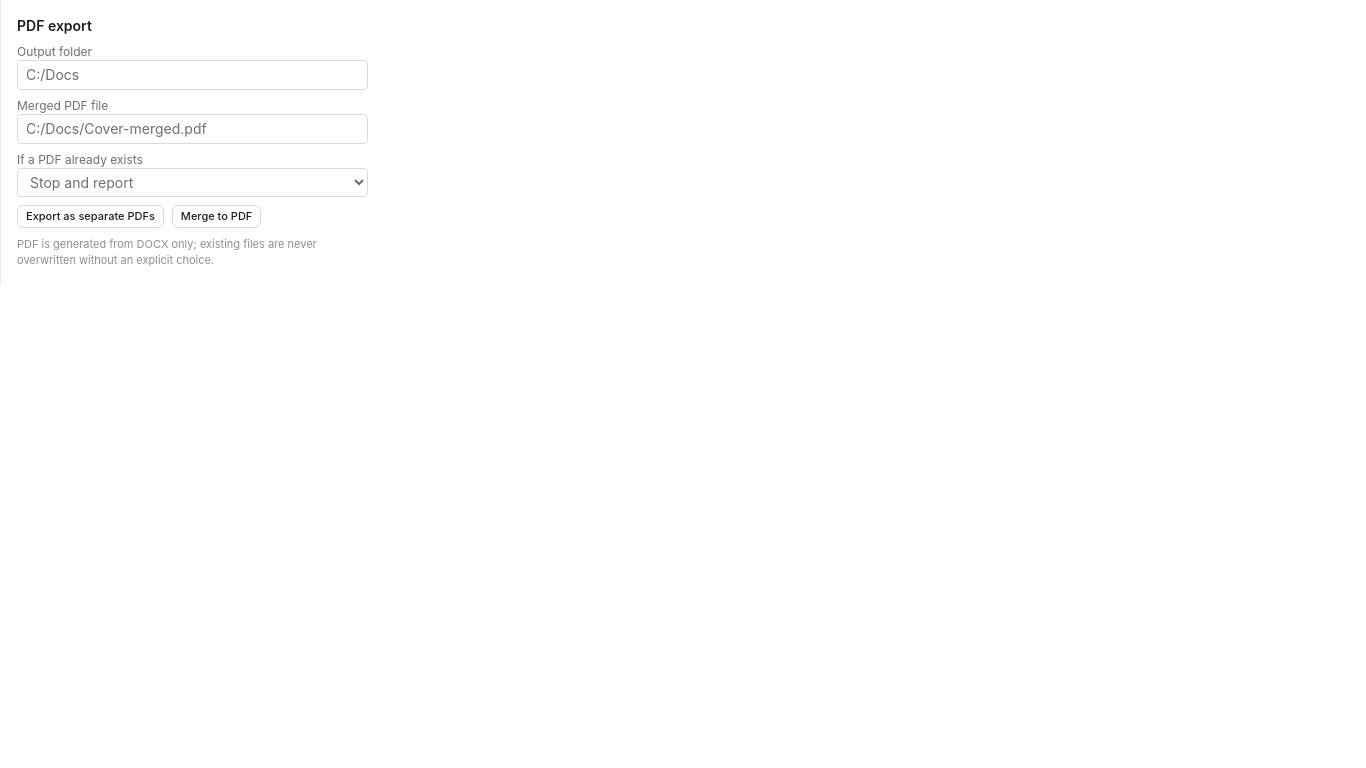
PdfExportPanel › names the offending document, not its raw id, when a merge source path is missing
Click the button "Merge to PDF" at (217, 216), box 172,205 -> 261,228
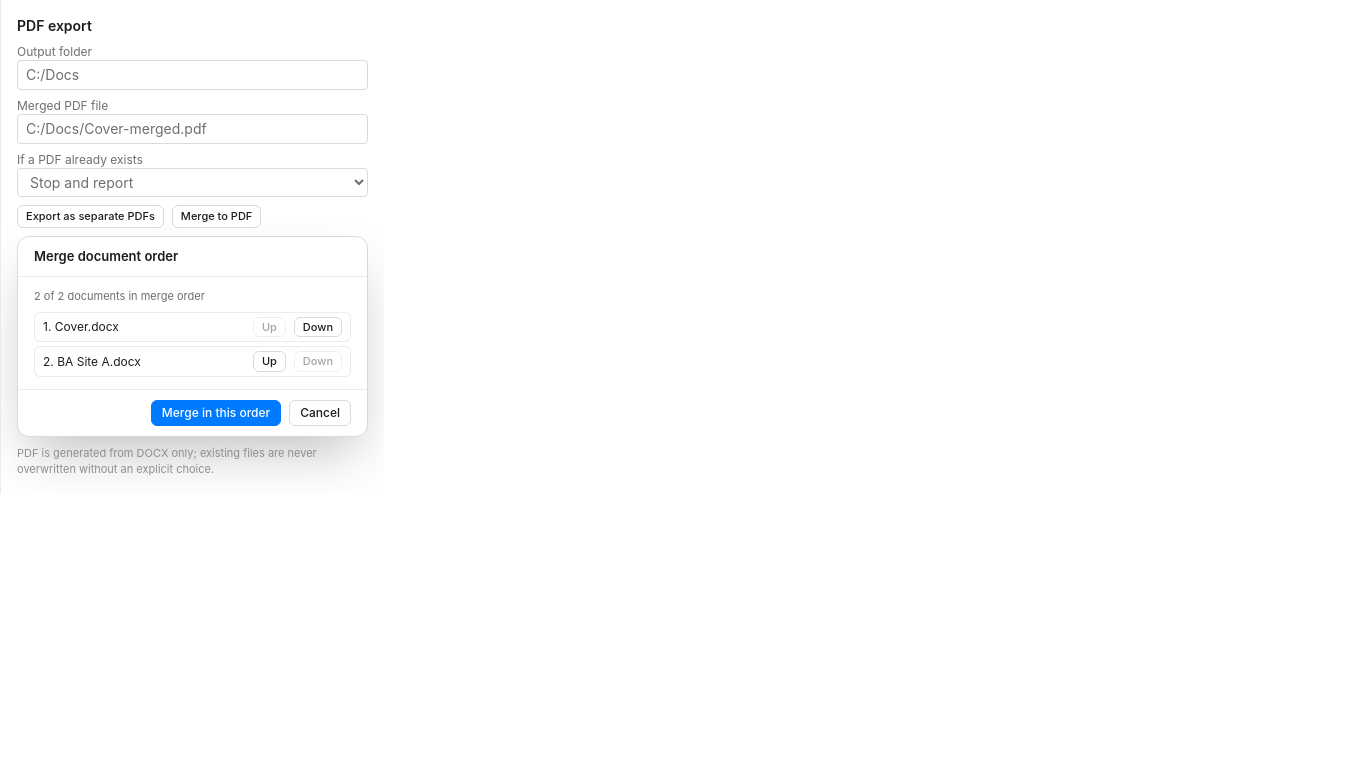
Click the button "Merge in this order" at (216, 413), box 151,400 -> 281,426
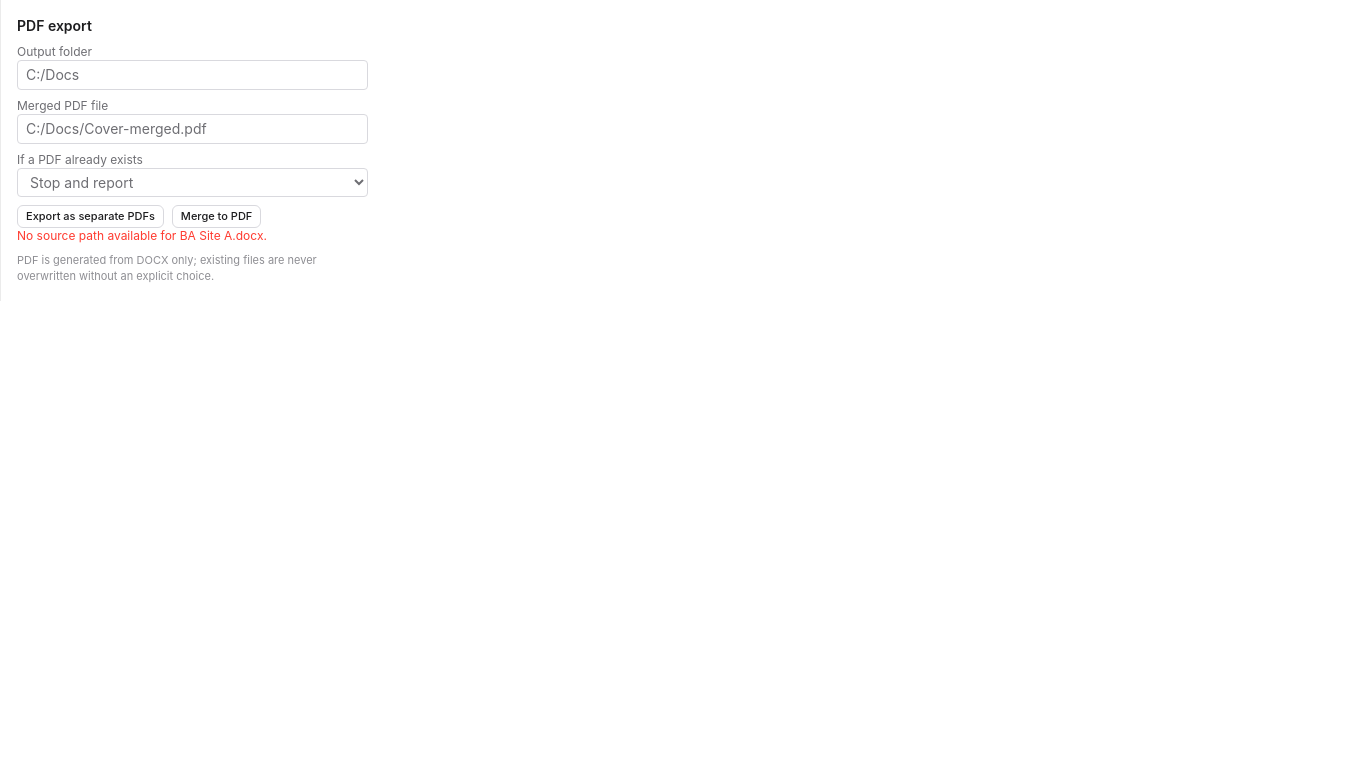
Result: the message reads "No source path available for BA Site A.docx." at 17,228 -> 267,242
